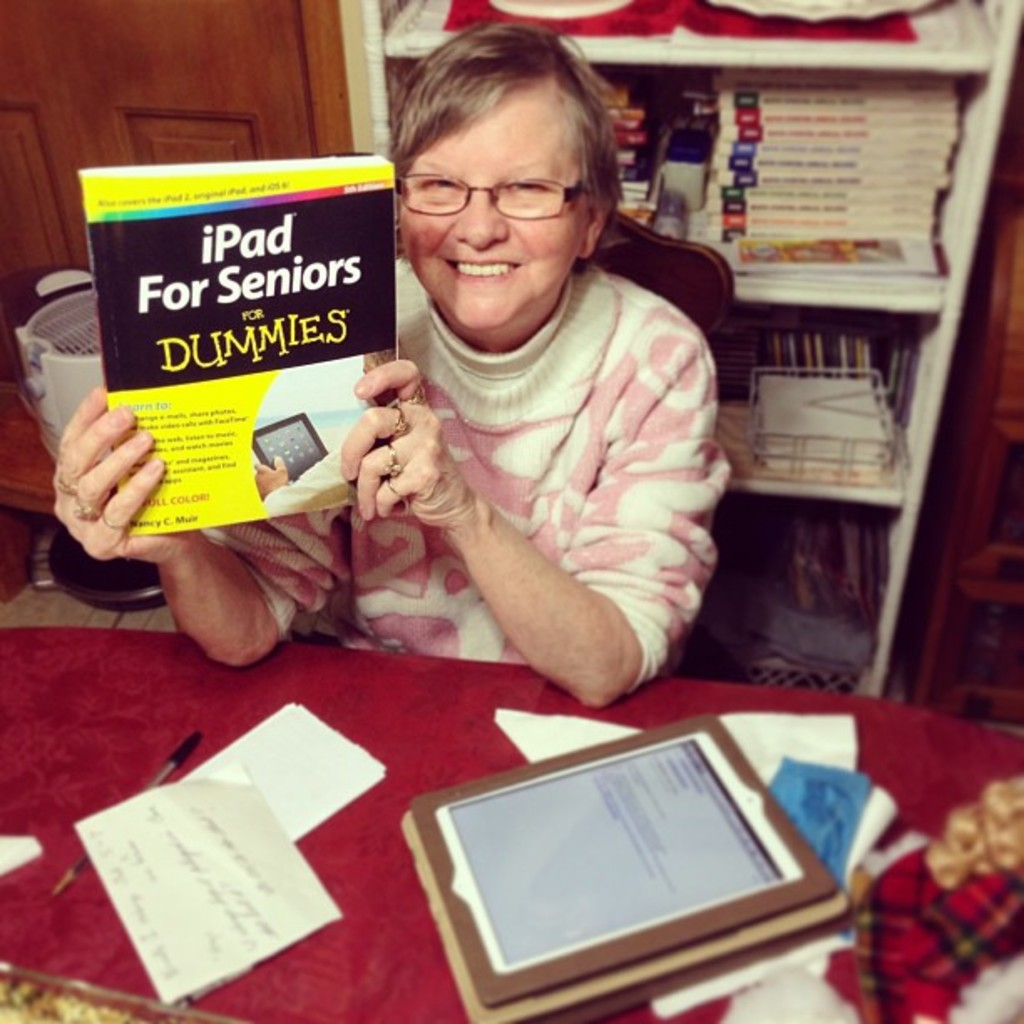Human-face: (398, 85, 579, 330)
